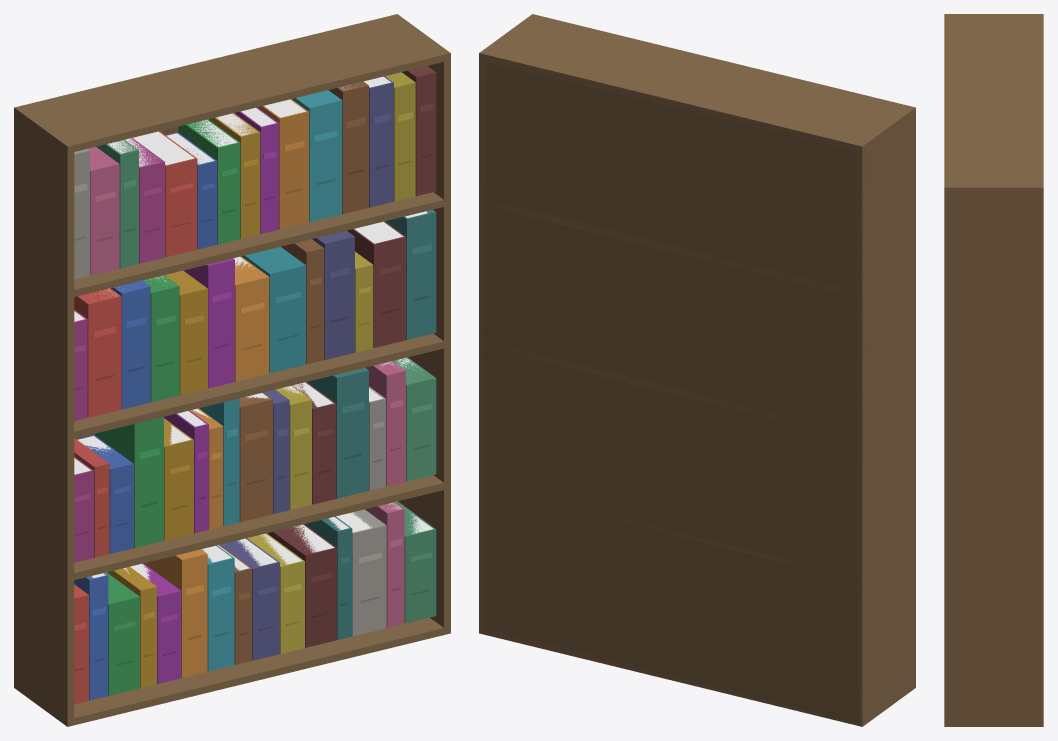
File: Bookshelf.glb
3 views of the same model, side by side, from view 1: azimuth 30°, elevation 25°; view 2: azimuth 150°, elevation 25°; view 3: azimuth 270°, elevation 25° (orthographic). The views are drawn at different scales.
Visible parts, largest first — view 1: Shelf_Side_L, Shelf_Top, Shelf_Side_R, Shelf_Bottom, Shelf_Board_2, Shelf_Board_1, Shelf_Board_3, Book_2_7, Book_1_3, Book_2_1, Book_1_12, Book_3_10 (+55 smaller); view 2: Shelf_Back, Shelf_Side_L, Shelf_Top, Shelf_Side_R, Shelf_Board_3, Shelf_Board_2, Shelf_Bottom, Shelf_Board_1; view 3: Shelf_Side_R, Shelf_Top.
Part boxes in pixels (x1,y1,x2,y2): Shelf_Side_L: (14,107,74,726); Shelf_Top: (14,14,450,151); Shelf_Side_R: (398,53,450,634); Shelf_Bottom: (67,617,450,726); Shelf_Board_2: (74,333,443,438); Shelf_Board_1: (74,475,443,579); Shelf_Board_3: (74,192,443,296); Book_2_7: (241,247,305,373); Book_1_3: (95,417,163,547); Book_2_1: (74,288,121,417); Book_1_12: (307,367,368,498); Book_3_10: (292,90,342,222); Shelf_Back: (479,56,864,724); Shelf_Side_L: (855,107,915,726); Shelf_Top: (479,14,915,152); Shelf_Side_R: (479,53,485,634); Shelf_Board_3: (486,200,855,296); Shelf_Board_2: (486,342,852,437); Shelf_Bottom: (481,628,915,726); Shelf_Board_1: (486,483,855,579); Shelf_Side_R: (944,185,1043,726); Shelf_Top: (944,14,1043,193).
Size of the model in its own units: 1.24 by 1.8 by 0.3.
